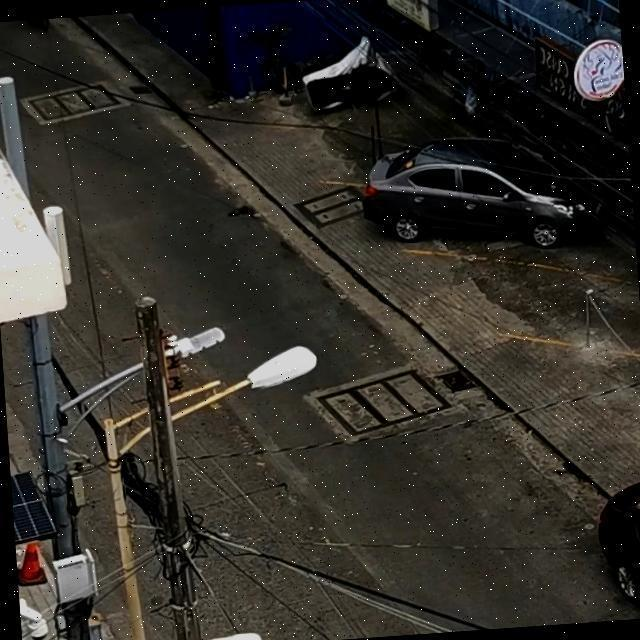Bike: (6, 17, 74, 51)
